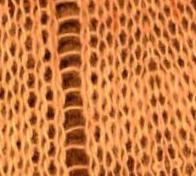slub: (54, 1, 92, 176)
